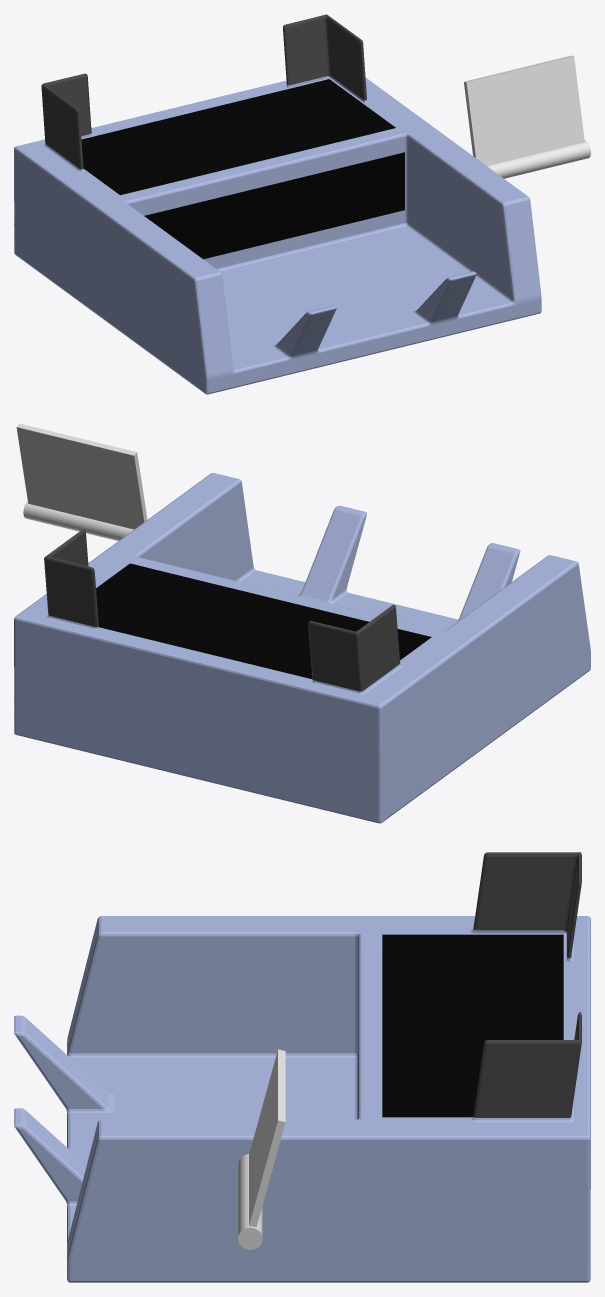
The model's file is Money_Machine.fbx.
3 views of the same model, one above another, from view 1: azimuth 30°, elevation 25°; view 2: azimuth 150°, elevation 25°; view 3: azimuth 270°, elevation 25° (orthographic). The views are drawn at different scales.
Visible parts, largest first — view 1: Body, Cube, Cylinder; view 2: Body, Cube, Cylinder; view 3: Body, Cube, Cylinder.
Boxes of the visible parts, x1,y1,x2,y2 form: Body: (14,14,541,394); Cube: (464,55,584,165); Cylinder: (487,140,590,178); Body: (14,473,590,823); Cube: (16,423,147,529); Cylinder: (23,501,133,540); Body: (14,852,590,1282); Cube: (249,1049,285,1227); Cylinder: (238,1154,262,1249).
Bounding box in the file's own units: 1066 × 396 × 877.
